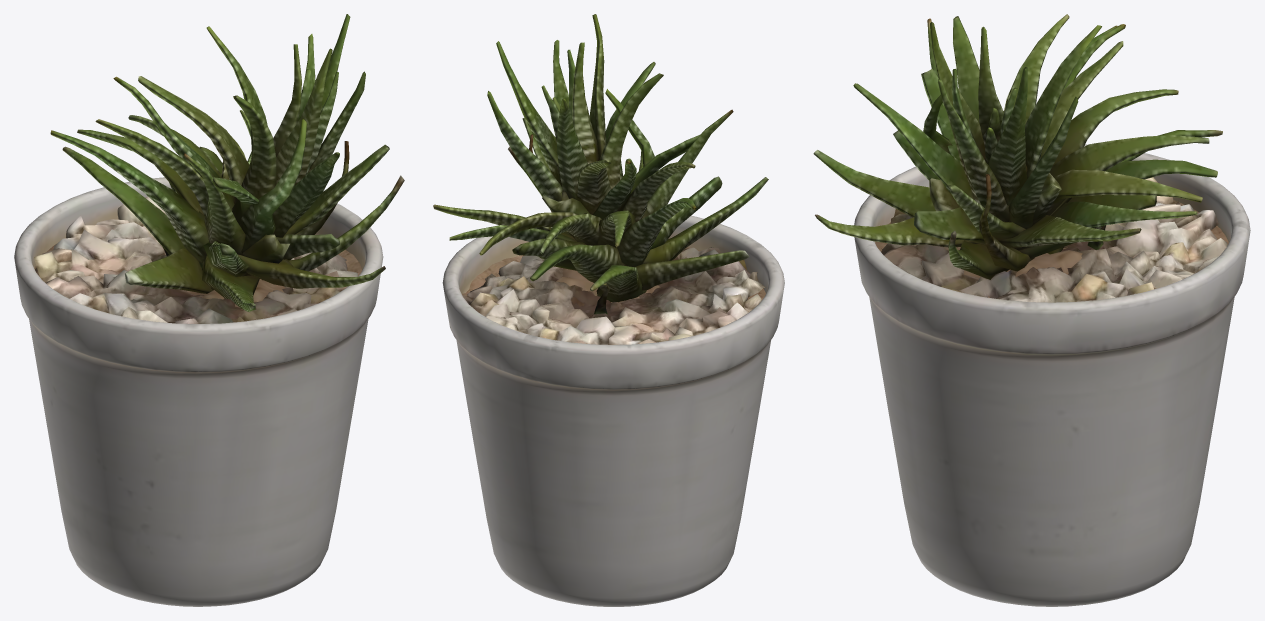
Rendered from hq-planter.glb.
The picture shows the model from 3 angles, left to right: view 1: azimuth 30°, elevation 25°; view 2: azimuth 150°, elevation 25°; view 3: azimuth 270°, elevation 25°; orthographic projection. The views are drawn at different scales.
Parts seen in each view (by area): view 1: potted_plant_04_pot, potted_plant_04_plant, potted_plant_04_ground, potted_plant_04_dirt; view 2: potted_plant_04_pot, potted_plant_04_plant, potted_plant_04_ground, potted_plant_04_dirt; view 3: potted_plant_04_pot, potted_plant_04_plant, potted_plant_04_ground, potted_plant_04_dirt.
Part boxes in pixels (left/top/right/bottom): potted_plant_04_pot: left=14, top=177, right=383, bottom=606; potted_plant_04_plant: left=50, top=14, right=404, bottom=311; potted_plant_04_ground: left=34, top=196, right=357, bottom=323; potted_plant_04_dirt: left=34, top=238, right=362, bottom=307; potted_plant_04_pot: left=442, top=215, right=784, bottom=606; potted_plant_04_plant: left=433, top=14, right=768, bottom=314; potted_plant_04_ground: left=463, top=247, right=765, bottom=344; potted_plant_04_dirt: left=462, top=247, right=765, bottom=306; potted_plant_04_pot: left=854, top=144, right=1250, bottom=606; potted_plant_04_plant: left=813, top=14, right=1222, bottom=279; potted_plant_04_ground: left=881, top=177, right=1227, bottom=302; potted_plant_04_dirt: left=875, top=200, right=1228, bottom=297.
Bounding box in the file's own units: 0.1679 × 0.2675 × 0.1848.
1 material, 1 textured.
